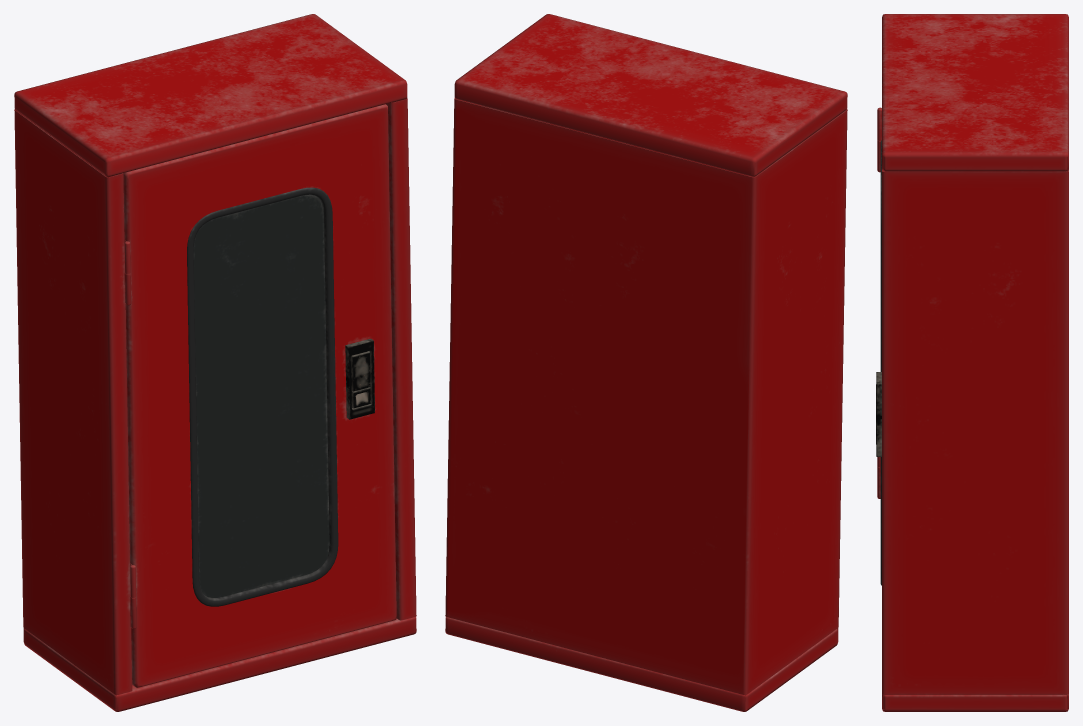
The model's file is ExtinguisherBox01.fbx.
The picture shows the model from 3 angles, left to right: view 1: azimuth 30°, elevation 25°; view 2: azimuth 150°, elevation 25°; view 3: azimuth 270°, elevation 25°; orthographic projection.
Visible parts, largest first — view 1: ExtinguisherBox01_LOD0; view 2: ExtinguisherBox01_LOD0; view 3: ExtinguisherBox01_LOD0.
Part boxes in pixels (box(x1,y1,x2,y2)): ExtinguisherBox01_LOD0: box(14, 14, 416, 711); ExtinguisherBox01_LOD0: box(445, 14, 847, 711); ExtinguisherBox01_LOD0: box(876, 14, 1068, 711).
Size of what is drawn, in the model's own units: 38.01 by 65.67 by 20.49.
